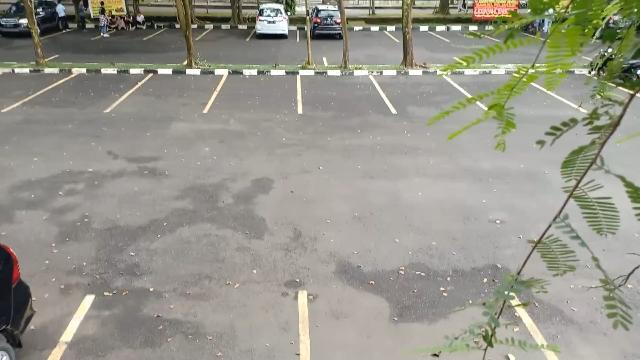empty: (53, 288, 305, 355), (299, 290, 547, 354), (27, 66, 124, 115), (110, 70, 222, 112), (206, 71, 304, 115), (382, 69, 474, 113), (298, 71, 382, 113)
occupied: (249, 6, 299, 42), (297, 6, 341, 42)
